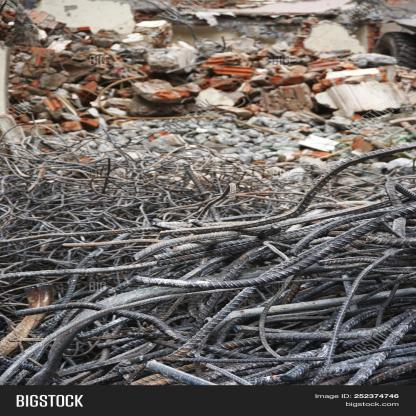rebar: (0, 124, 416, 384)
